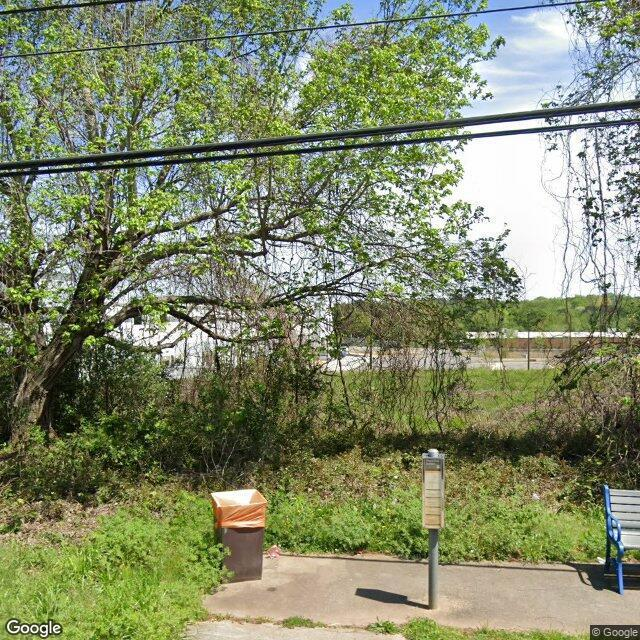seating: (600, 484, 640, 596)
trash_can: (209, 486, 269, 588)
